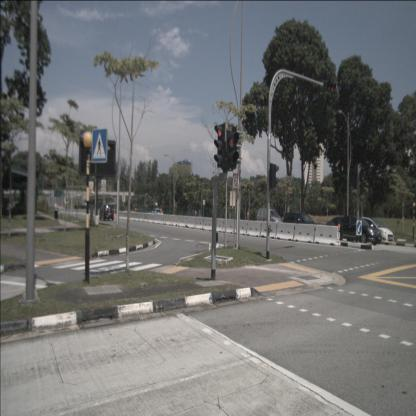vehicle-car: (334, 216, 381, 245), (350, 218, 394, 245), (283, 212, 319, 238), (326, 216, 356, 237), (256, 209, 283, 232), (99, 203, 114, 221), (186, 210, 200, 223), (151, 207, 164, 220)
